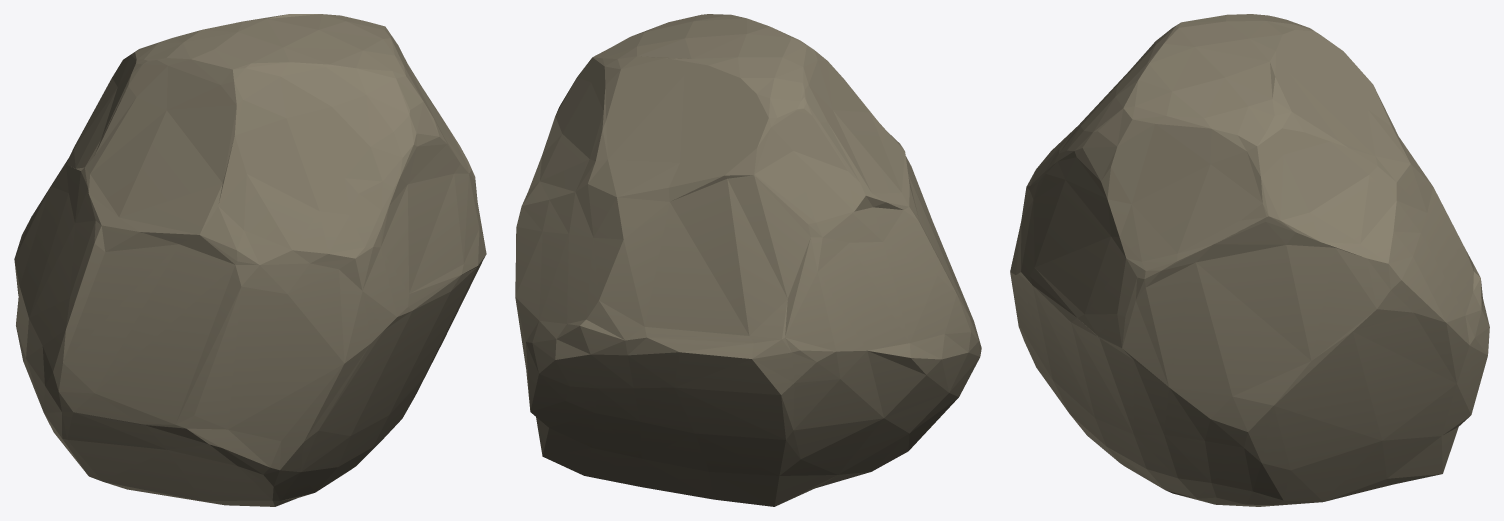
The model's file is rock-c.glb.
3 views of the same model, side by side, from view 1: azimuth 30°, elevation 25°; view 2: azimuth 150°, elevation 25°; view 3: azimuth 270°, elevation 25° (orthographic). The views are drawn at different scales.
Size of the model in its own units: 0.7628 by 0.7114 by 0.746.
